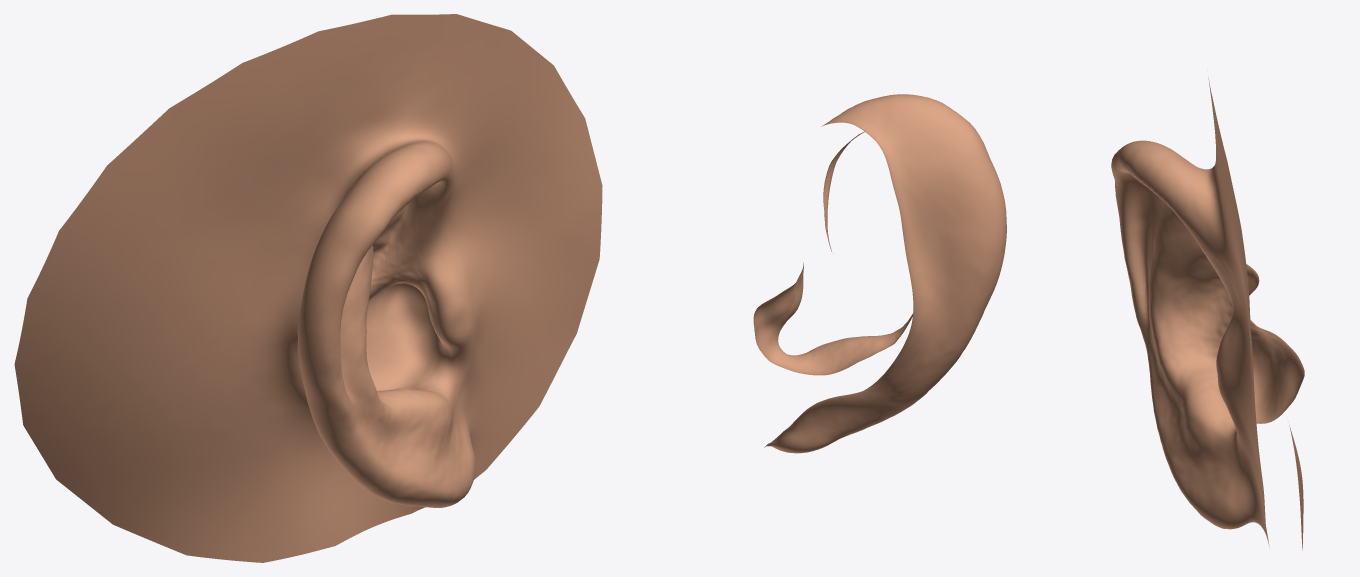
File: ear-r.glb
3 views of the same model, side by side, from view 1: azimuth 30°, elevation 25°; view 2: azimuth 150°, elevation 25°; view 3: azimuth 270°, elevation 25° (orthographic). The views are drawn at different scales.
Visible parts, largest first — view 1: skin; view 2: skin; view 3: skin.
Part boxes in pixels (<box>): skin: <box>14,14,602,562</box>; skin: <box>753,94,1006,453</box>; skin: <box>1111,76,1304,550</box>.
Size of the model in its own units: 0.08 by 0.08 by 0.0344.
